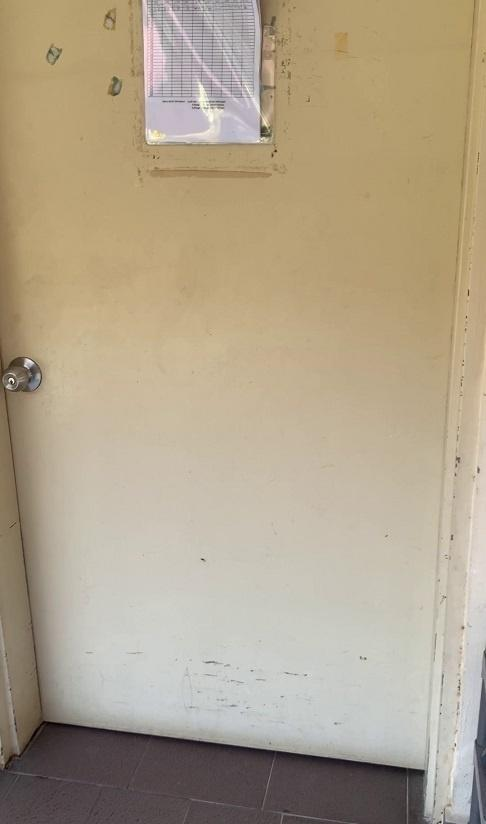door: (0, 0, 483, 774)
